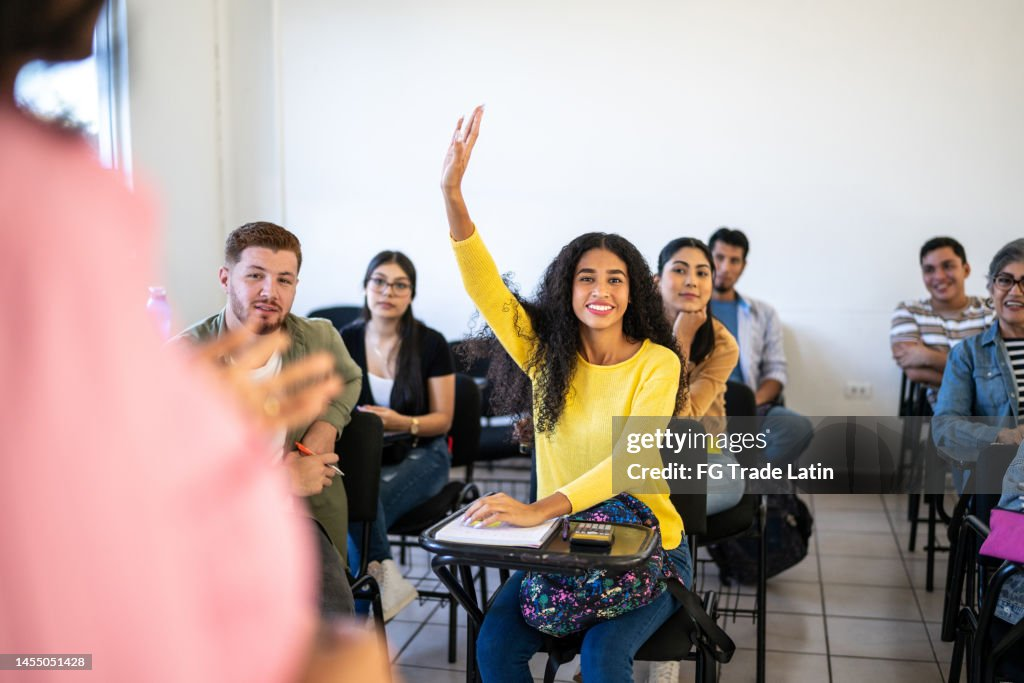entre-0-15-porcento: (167, 97, 1021, 669)
